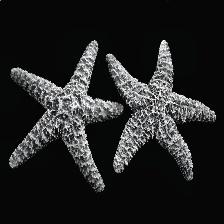starfish: (3, 10, 222, 211)
